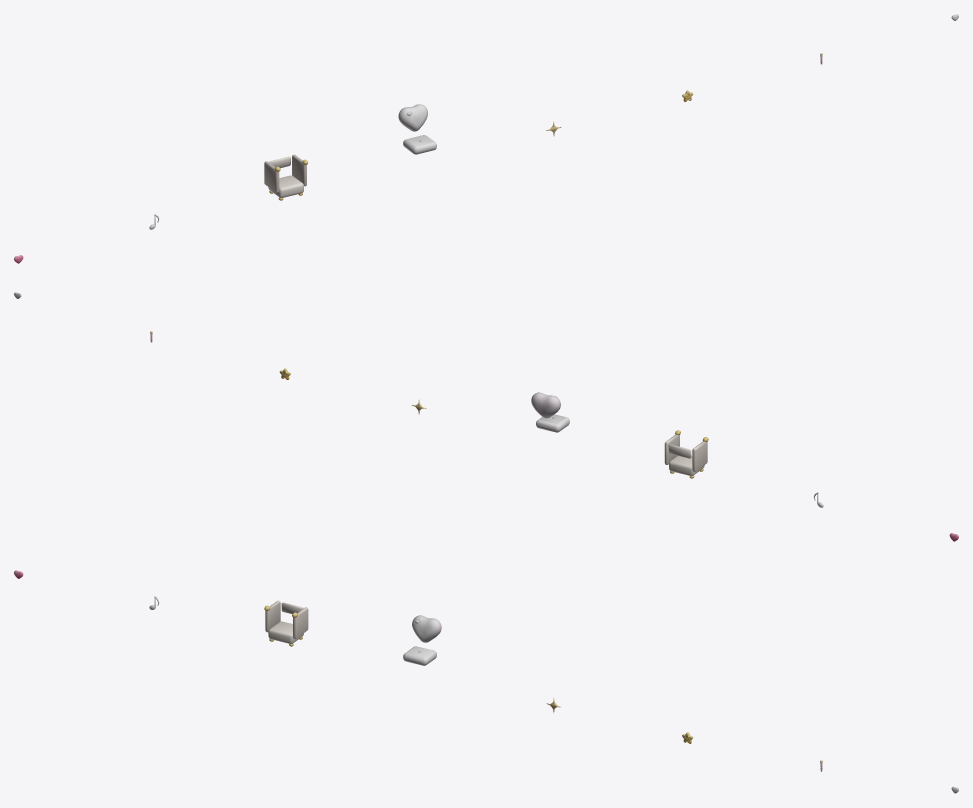
The model's file is prp_stage_seat.glb.
3 renders of one model, top to bottom at view 1: azimuth 30°, elevation 25°; view 2: azimuth 150°, elevation 25°; view 3: azimuth 330°, elevation 25°, orthographic.
Parts seen in each view (by area): view 1: INST_prp_stage_seat_seat_frame, INST_prp_stage_seat_seat_pad; view 2: INST_prp_stage_seat_seat_frame, INST_prp_stage_seat_seat_pad; view 3: INST_prp_stage_seat_seat_frame, INST_prp_stage_seat_seat_pad.
Boxes of the visible parts, left/top/right/bottom form: INST_prp_stage_seat_seat_frame: left=264, top=154, right=307, bottom=200; INST_prp_stage_seat_seat_pad: left=398, top=104, right=436, bottom=154; INST_prp_stage_seat_seat_frame: left=664, top=430, right=708, bottom=478; INST_prp_stage_seat_seat_pad: left=531, top=392, right=569, bottom=432; INST_prp_stage_seat_seat_frame: left=264, top=600, right=308, bottom=646; INST_prp_stage_seat_seat_pad: left=403, top=615, right=441, bottom=665.
Size of the model in its own units: 21.18 by 1.25 by 0.6845.
